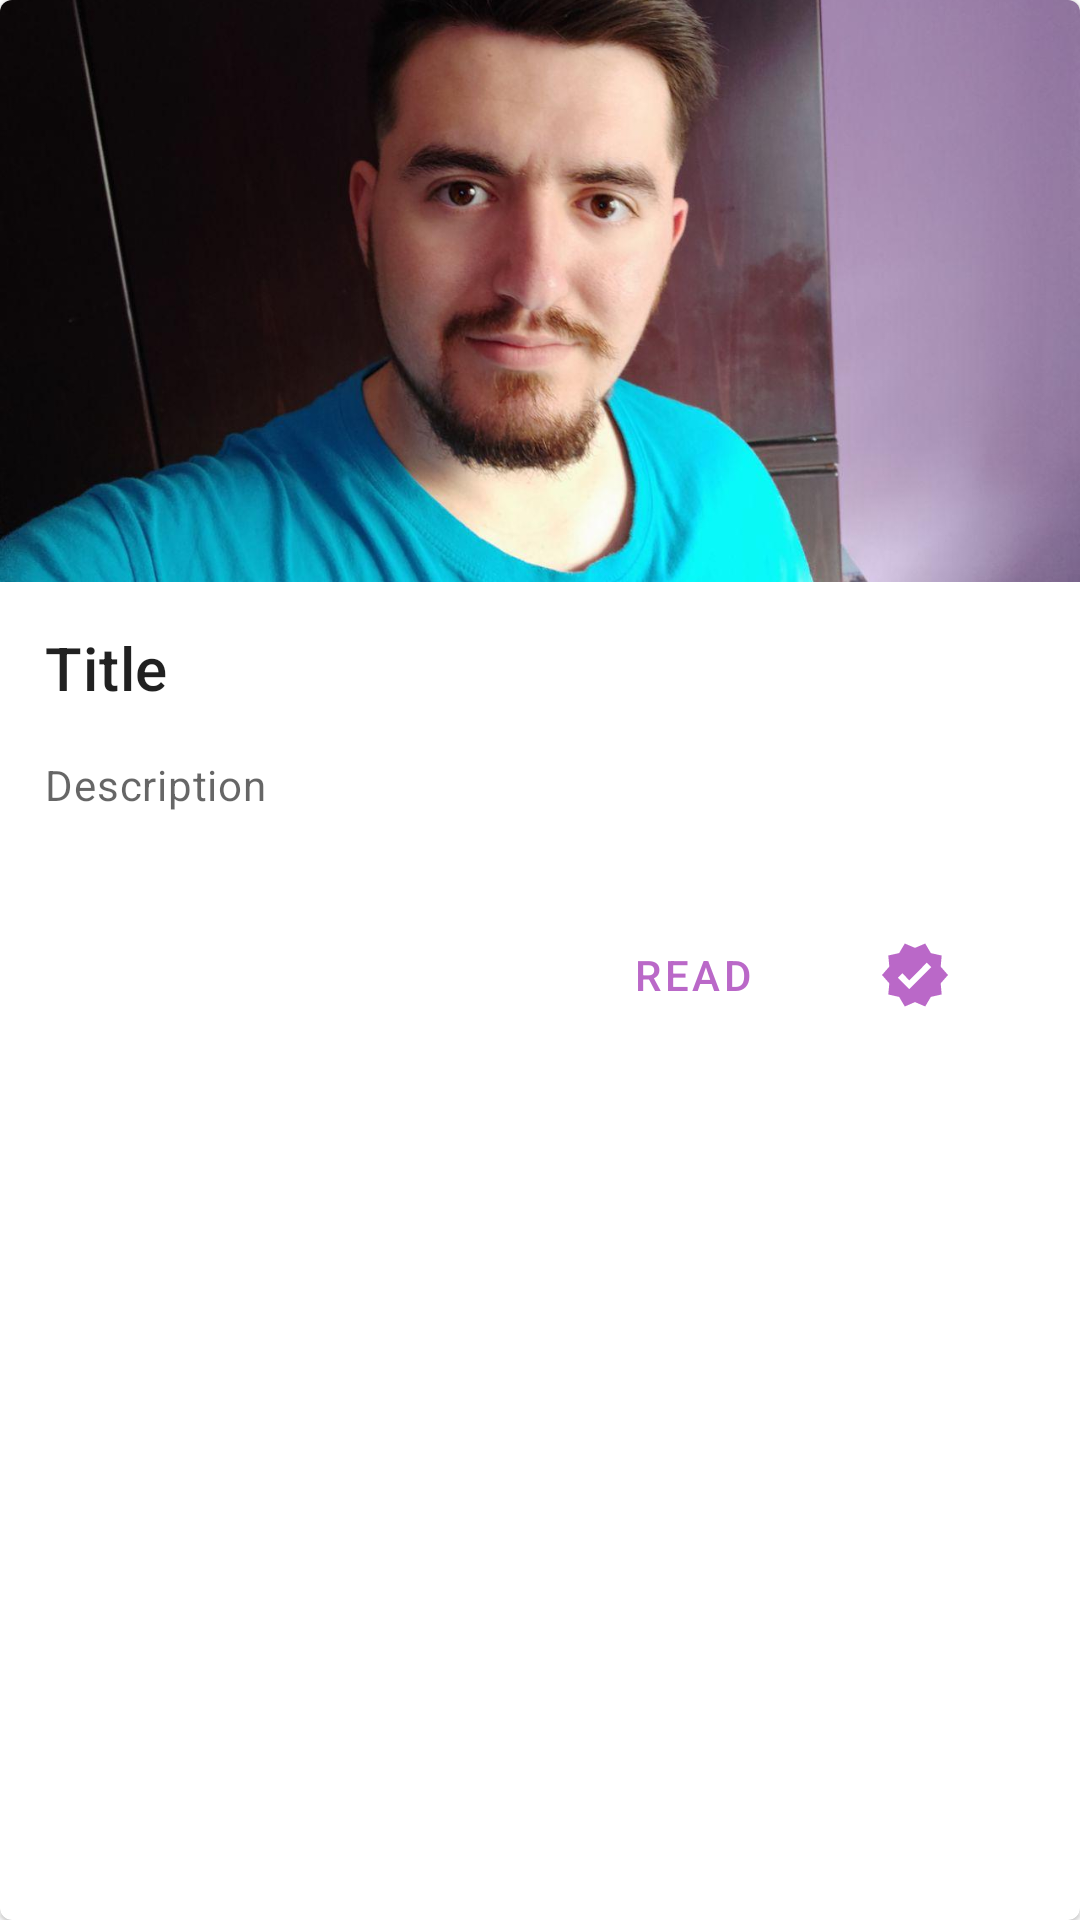

Icons on this 1080 x 1920 Android screen, each with the point to tap as [x,y]:
verified: [915,975]
